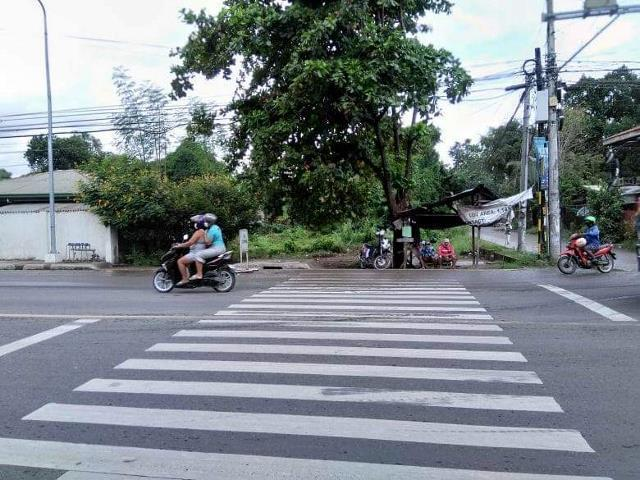bike: (154, 241, 237, 293), (558, 231, 616, 275), (354, 241, 391, 267)
pedestrian lane: (85, 269, 599, 480)
person: (198, 213, 225, 280), (179, 213, 202, 284), (580, 216, 601, 263), (439, 237, 456, 268), (422, 240, 437, 270)
pole: (546, 8, 561, 260), (46, 59, 61, 266)
tree: (295, 7, 429, 231)
